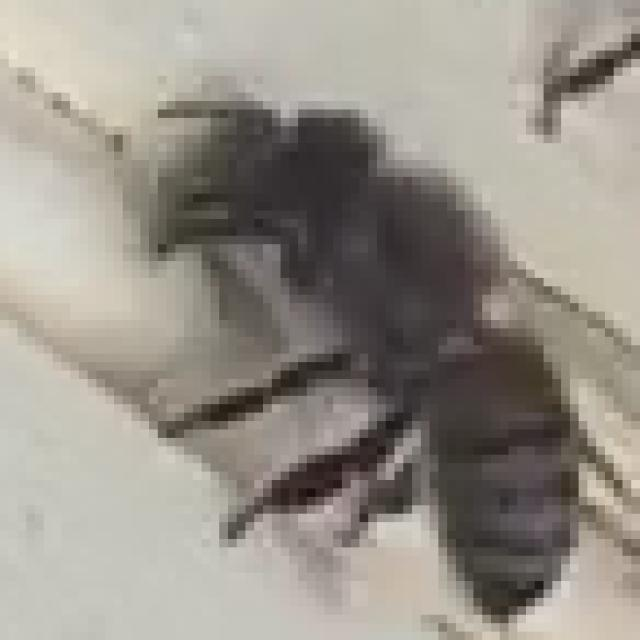honeybee: (122, 59, 640, 640)
